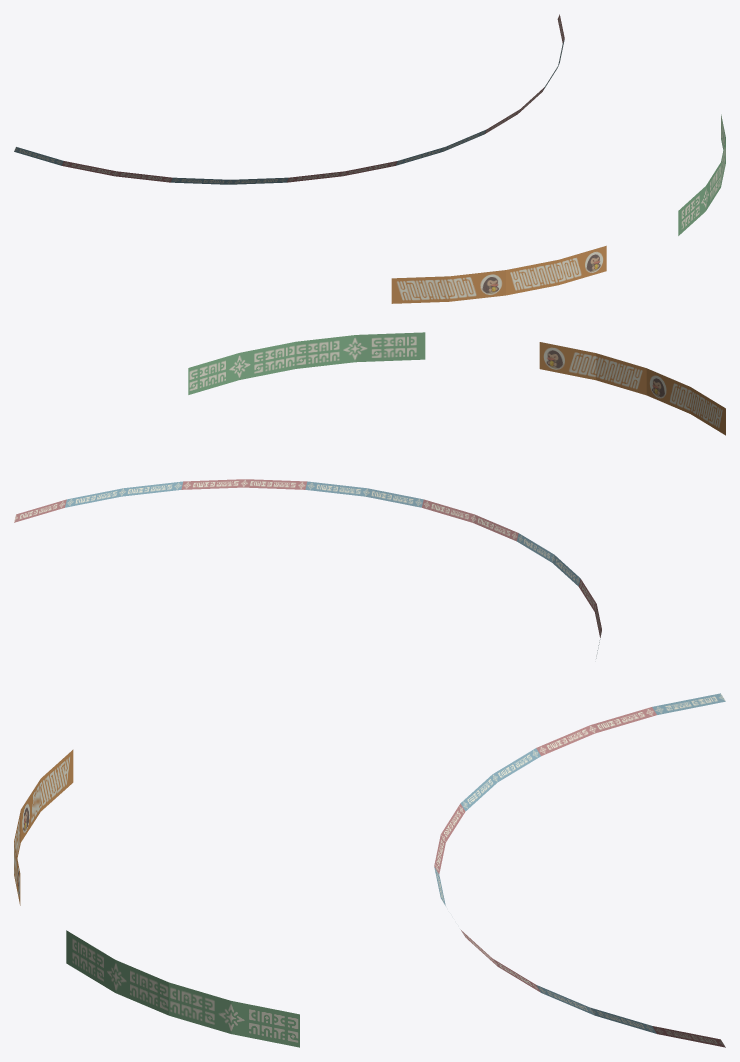
The model's file is Mesh_Battle_Match_Billboard.fbx.
3 renders of one model, top to bottom at view 1: azimuth 30°, elevation 25°; view 2: azimuth 150°, elevation 25°; view 3: azimuth 270°, elevation 25°, orthographic. The views are drawn at different scales.
Visible parts, largest first — view 1: Mesh_Battle_Match_Billboard; view 2: Mesh_Battle_Match_Billboard; view 3: Mesh_Battle_Match_Billboard.
Part boxes in pixels (x1,y1,x2,y2): Mesh_Battle_Match_Billboard: (14,14,725,303); Mesh_Battle_Match_Billboard: (14,332,725,658); Mesh_Battle_Match_Billboard: (14,693,725,1047).
Size of the model in its own units: 10001 by 448 by 8693.
